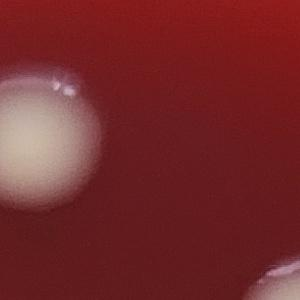colony: (0, 64, 108, 223), (233, 253, 300, 300)
